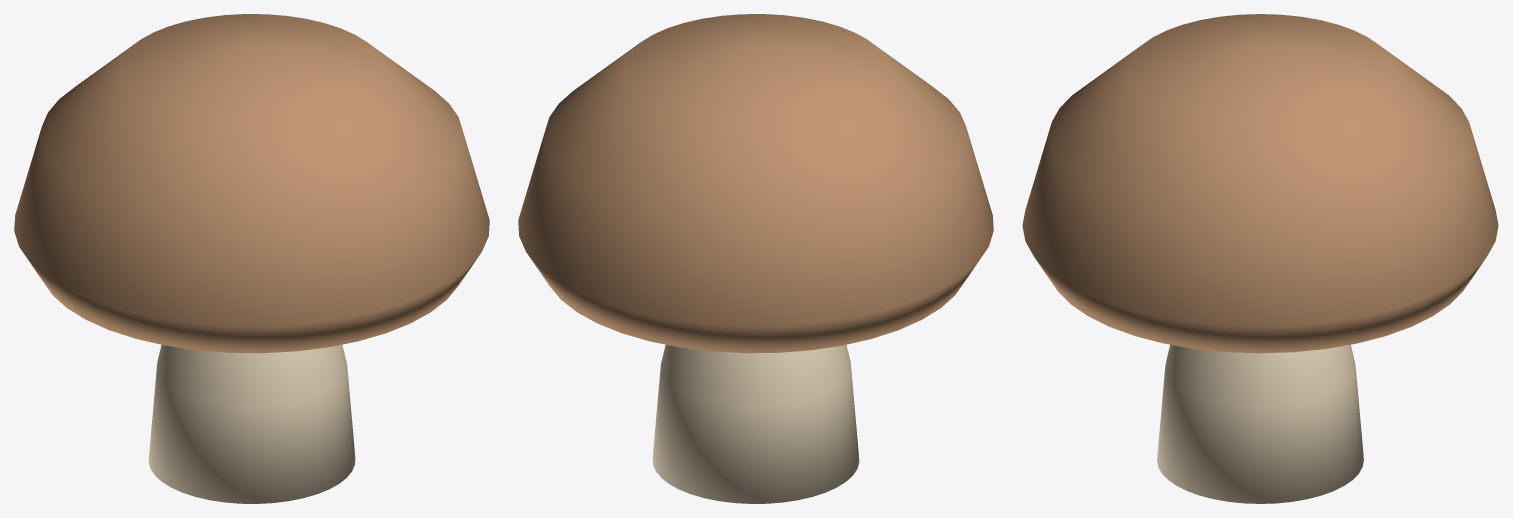
File: mushroom-whole.obj
The picture shows the model from 3 angles, left to right: view 1: azimuth 30°, elevation 25°; view 2: azimuth 150°, elevation 25°; view 3: azimuth 270°, elevation 25°; orthographic projection.
Parts seen in each view (by area): view 1: mushroom-whole_mushroom, mushroom-whole_mushroomFlesh; view 2: mushroom-whole_mushroom, mushroom-whole_mushroomFlesh; view 3: mushroom-whole_mushroom, mushroom-whole_mushroomFlesh.
Boxes of the visible parts, x1,y1,x2,y2 form: mushroom-whole_mushroom: (14, 14, 489, 353); mushroom-whole_mushroomFlesh: (148, 344, 355, 503); mushroom-whole_mushroom: (518, 14, 993, 353); mushroom-whole_mushroomFlesh: (652, 344, 859, 503); mushroom-whole_mushroom: (1022, 14, 1498, 353); mushroom-whole_mushroomFlesh: (1157, 344, 1363, 503).
Size of the model in its own units: 0.23 by 0.22 by 0.23.
